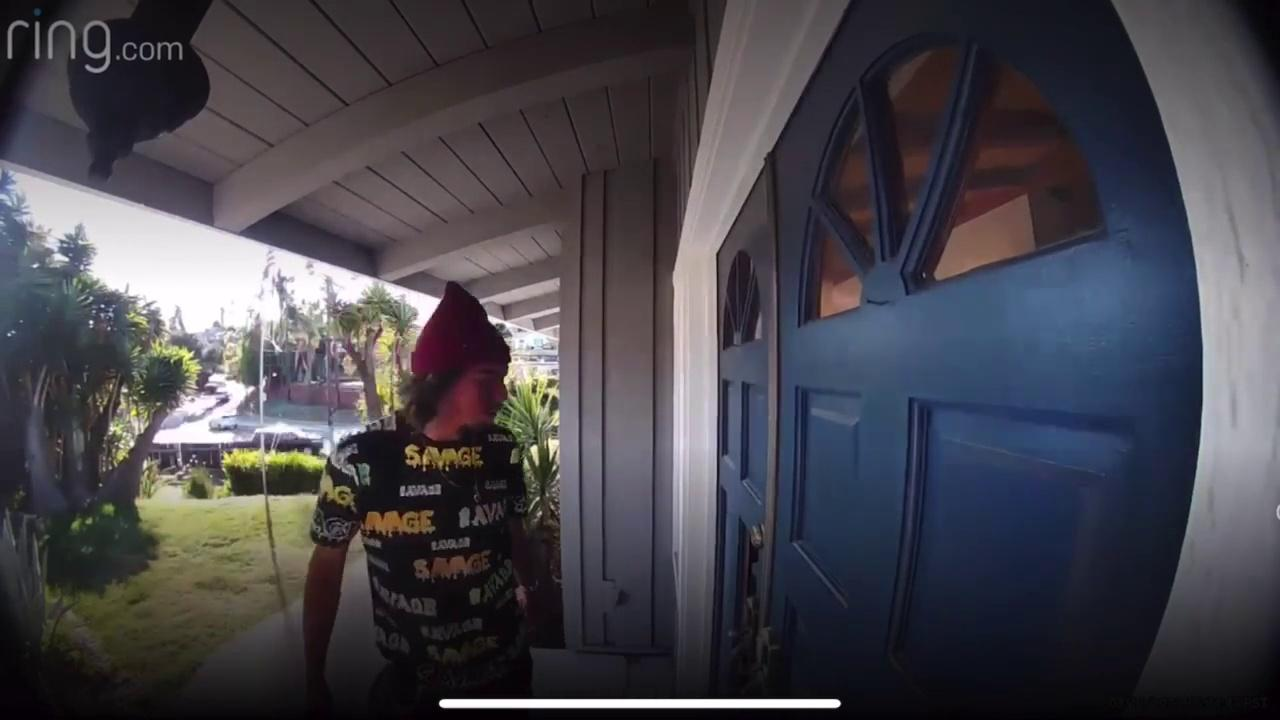suspicion: (310, 224, 532, 720)
